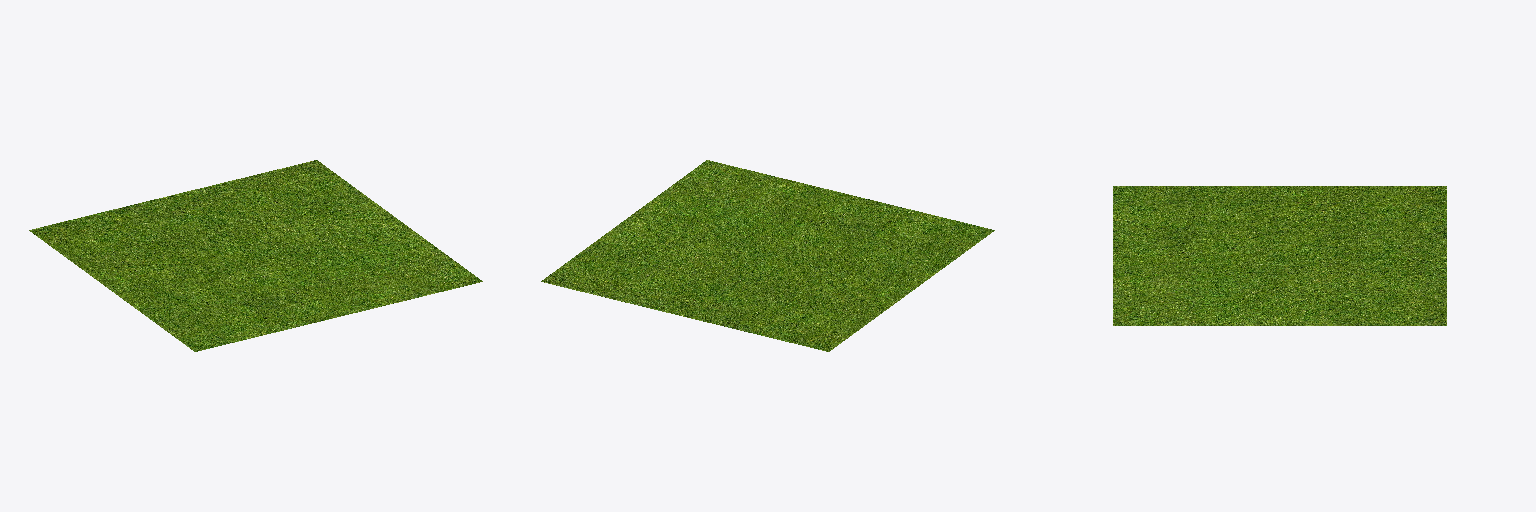
The picture shows the model from 3 angles: view 1: azimuth 30°, elevation 25°; view 2: azimuth 150°, elevation 25°; view 3: azimuth 270°, elevation 25°; orthographic projection.
Parts seen in each view (by area): view 1: Plane; view 2: Plane; view 3: Plane.
Part boxes in pixels (bbox=[...]): Plane: bbox=[29, 160, 482, 351]; Plane: bbox=[541, 160, 994, 351]; Plane: bbox=[1113, 186, 1446, 325].
Bounding box in the file's own units: 40.1 × 0 × 40.1.
1 materials, 1 textured.